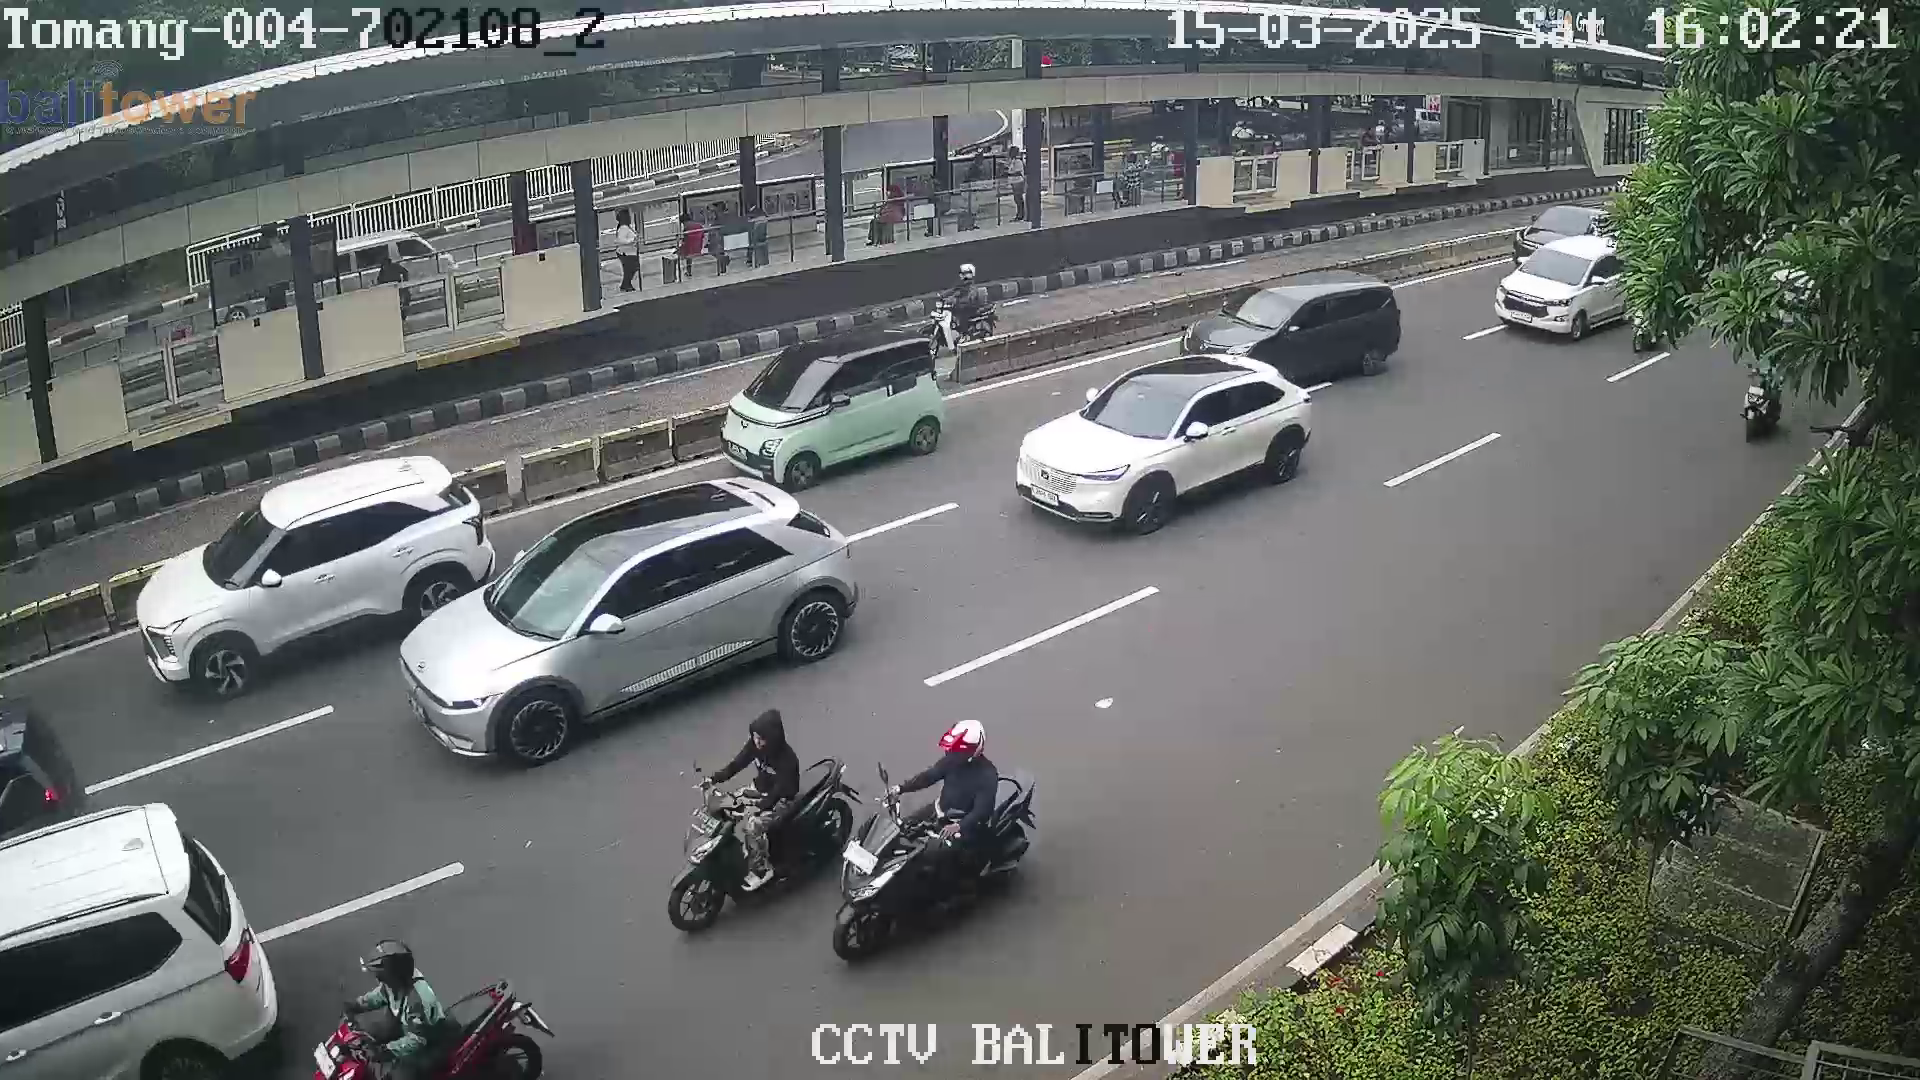half-face helmet: (351, 931, 427, 1002), (933, 708, 992, 773)
no helmet: (745, 702, 792, 757)
